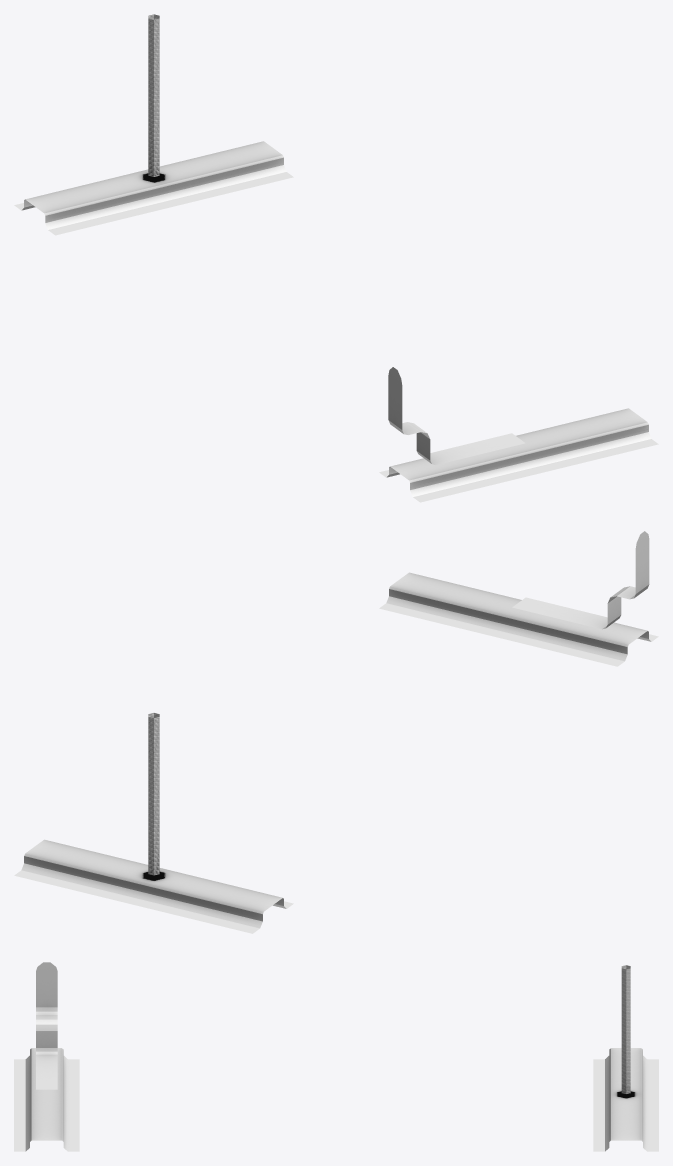
File: prop_railing.fbx
3 views of the same model, one above another, from view 1: azimuth 30°, elevation 25°; view 2: azimuth 150°, elevation 25°; view 3: azimuth 270°, elevation 25° (orthographic). The views are drawn at different scales.
Visible parts, largest first — view 1: HOOK_LOWPOLY; view 2: HOOK_LOWPOLY; view 3: HOOK_LOWPOLY.
Part boxes in pixels (x1,y1,x2,y2): HOOK_LOWPOLY: [14, 14, 658, 502]; HOOK_LOWPOLY: [14, 531, 658, 933]; HOOK_LOWPOLY: [14, 962, 658, 1151].
Size of the model in its own units: 346 by 237 by 1002.
Materials: 1 (1 with a texture image).
